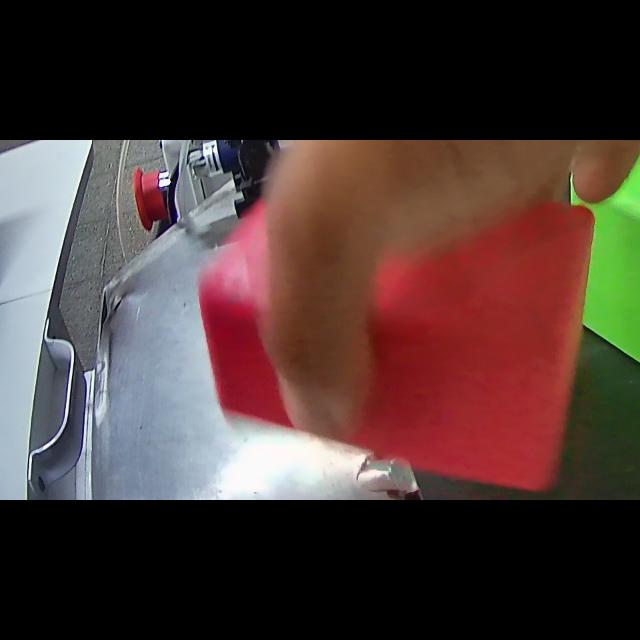greenBox: (556, 140, 640, 430)
redBox: (198, 197, 594, 499)
